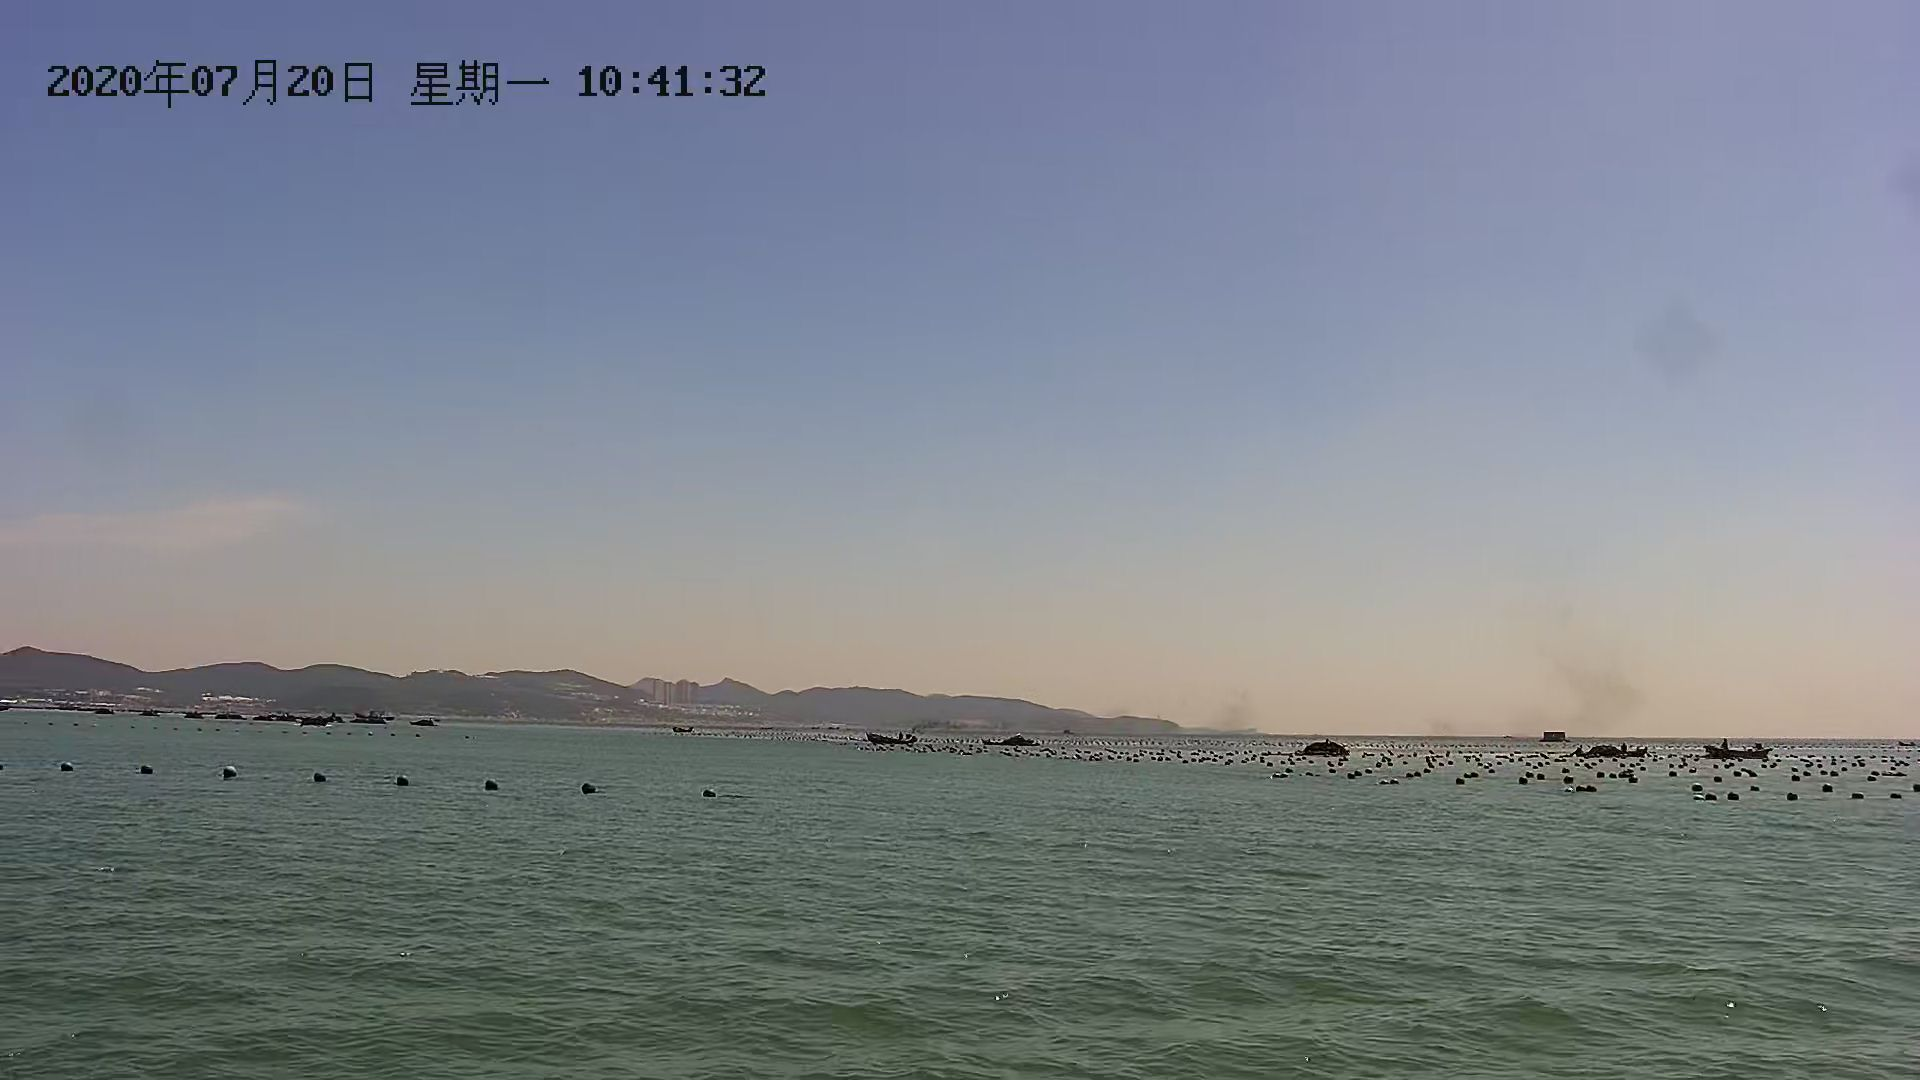ball: (218, 761, 243, 785), (576, 778, 604, 798), (477, 777, 504, 796), (310, 769, 335, 789), (393, 770, 419, 789), (55, 758, 80, 775), (135, 764, 157, 779), (1785, 789, 1803, 806), (702, 783, 715, 800)
boat: (1704, 741, 1778, 761), (862, 731, 920, 748)
platform: (1540, 727, 1572, 745)
rubbish: (1302, 736, 1352, 760), (349, 708, 390, 731), (1580, 742, 1629, 760), (262, 708, 305, 727), (210, 707, 248, 725), (1000, 732, 1040, 748), (299, 713, 343, 727)
